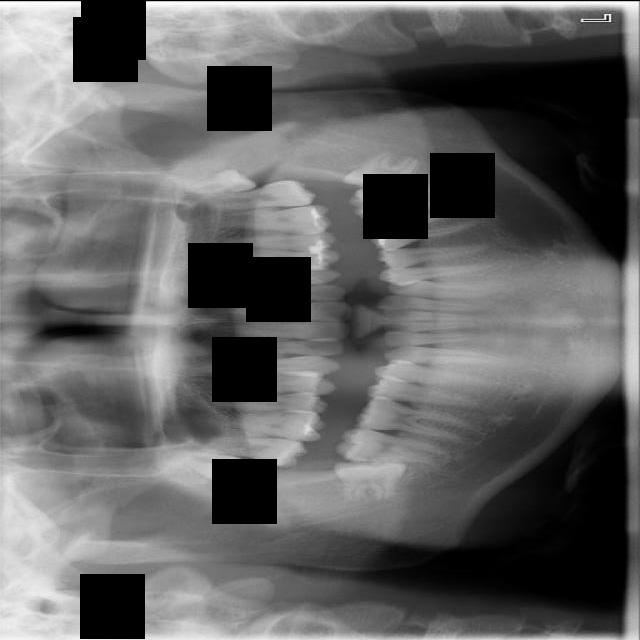3M ESPE Implant: (156, 443, 252, 486)
52: (361, 205, 417, 259), (265, 403, 329, 444), (279, 201, 334, 239), (283, 246, 340, 272), (287, 230, 336, 251)
73: (585, 33, 593, 35)
BioHorizons Implant: (197, 177, 317, 213)
BioLife Implant: (178, 163, 258, 201)
Biomet 3i Implant: (340, 144, 420, 198)
Blue Sky Bio Implant: (348, 181, 462, 220)
Caries: (179, 431, 310, 468)
Implant: (335, 425, 443, 465)
Keystone Dental Implant: (333, 454, 411, 503)
